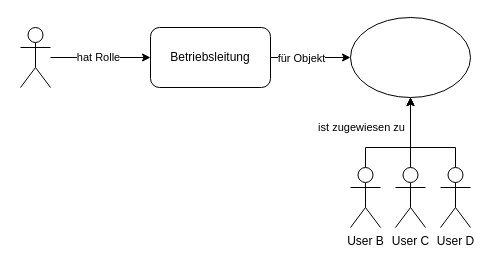
The diagram is 491 pixels wide and 266 high, and some of its shapes have lost their labels. The shapes that lost their labels are listed below. From the top down, each one's box as (x1, y1, x2, y2) in pixels, then its label:
(20, 26, 50, 88): User A
(350, 16, 470, 98): Betrieb
